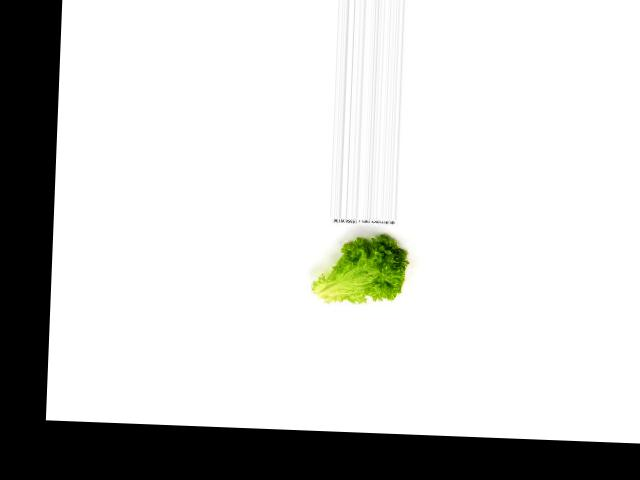lettuce: (311, 231, 413, 309)
